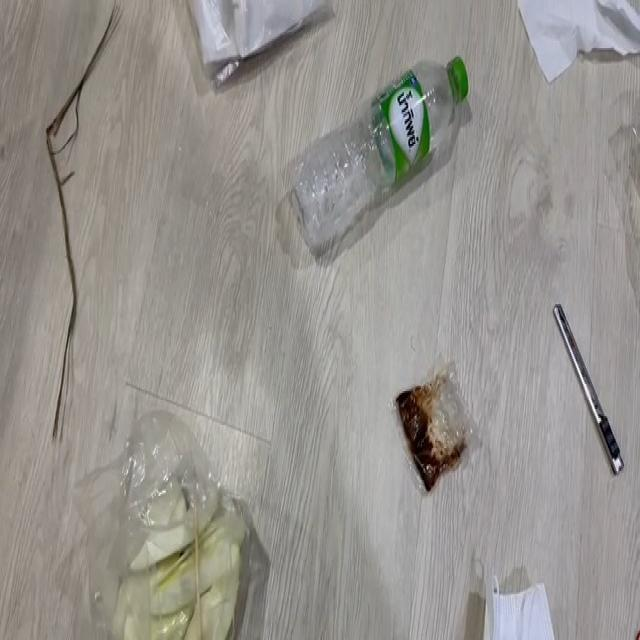Anorganik: (284, 38, 482, 238), (544, 300, 640, 480), (517, 0, 639, 81), (189, 0, 318, 70)
B3: (35, 0, 118, 430), (110, 435, 255, 633), (453, 540, 589, 640), (385, 360, 486, 494)
